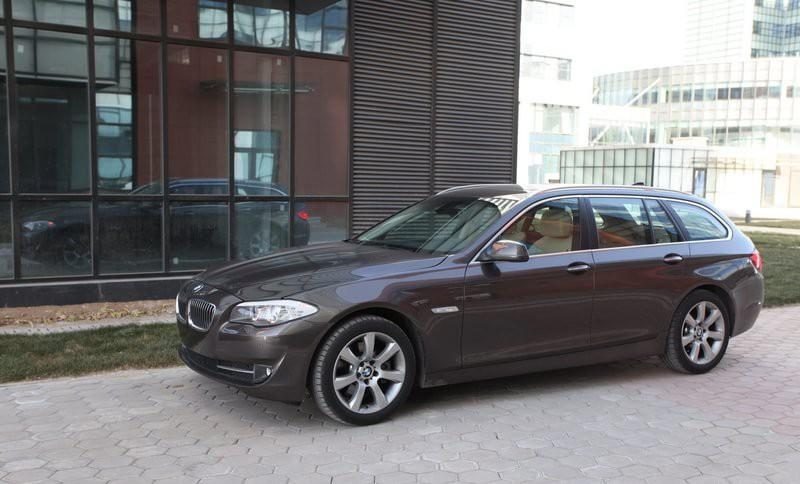Wagon: (175, 180, 765, 428)
